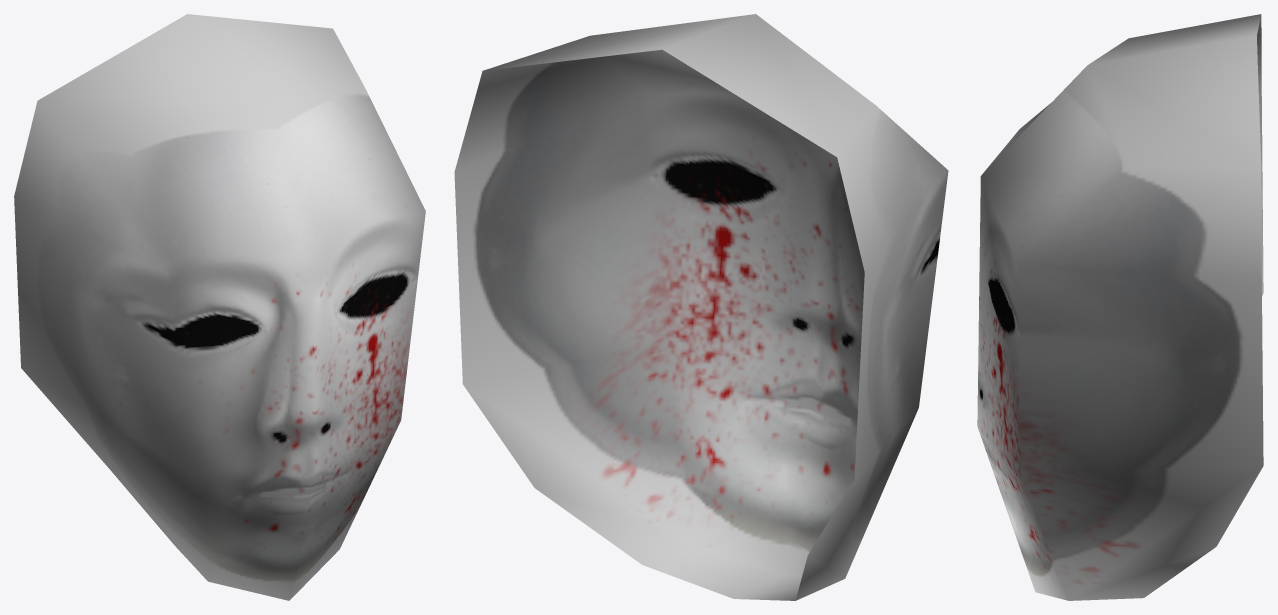
Rendered from bloodymask.fbx.
3 views of the same model, side by side, from view 1: azimuth 30°, elevation 25°; view 2: azimuth 150°, elevation 25°; view 3: azimuth 270°, elevation 25° (orthographic). The views are drawn at different scales.
Parts seen in each view (by area): view 1: Mask; view 2: Mask; view 3: Mask.
Part boxes in pixels (<box>): Mask: <box>14,14,425,600</box>; Mask: <box>454,14,948,600</box>; Mask: <box>977,14,1263,600</box>.
Bounding box in the file's own units: 17.1 × 24.49 × 11.41.
